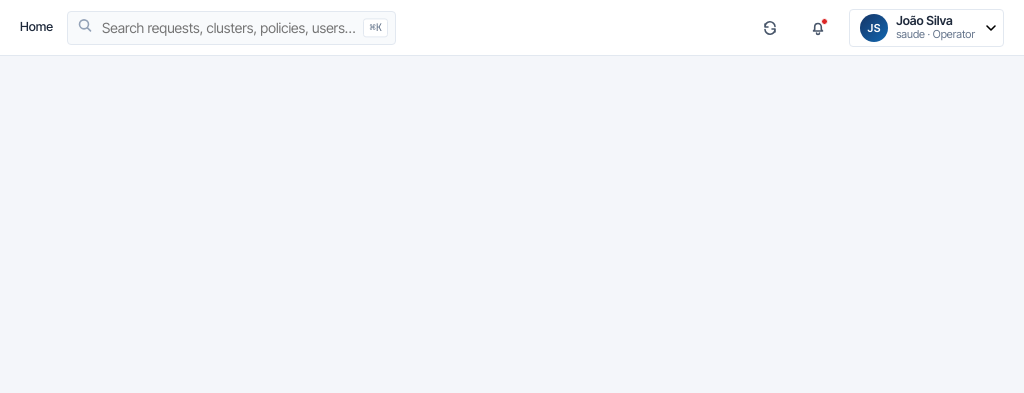
Test: Topbar › pressing Escape closes the role menu
Click the button with class "role-switch" at (927, 28), box [849,8,1004,46]
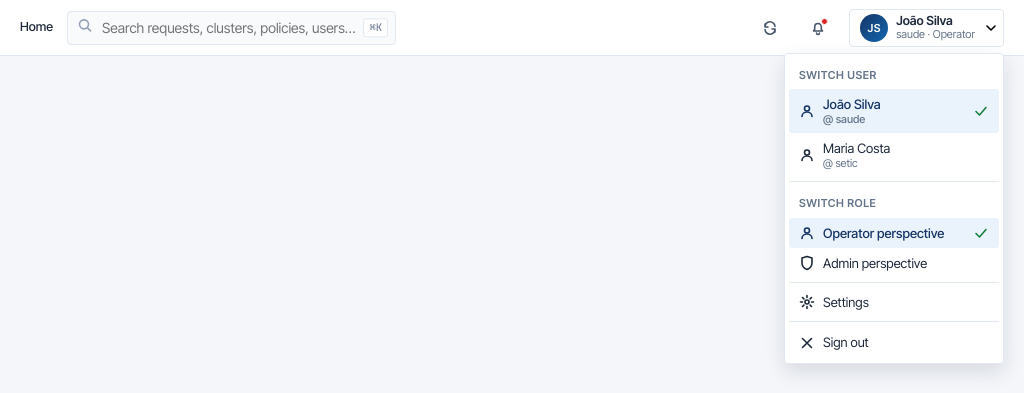
expect the text "Switch role" is shown: met, box [799,196,876,210]
Press Escape
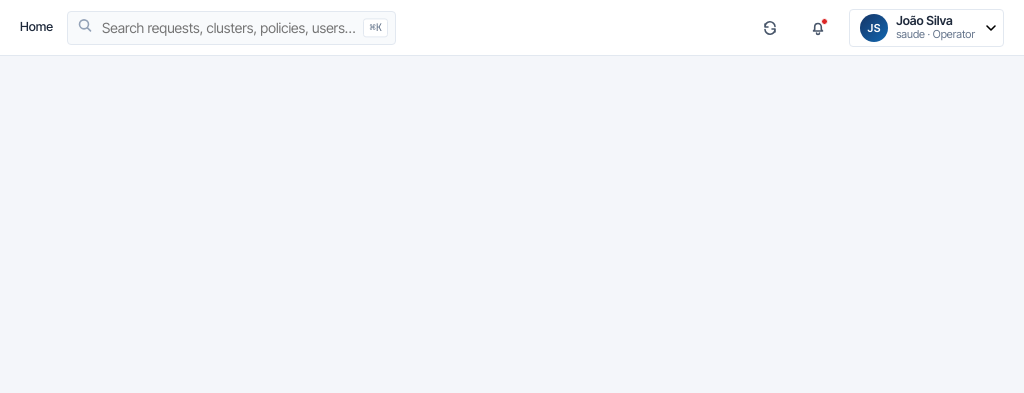
expect the text "Switch role" is gone: met
